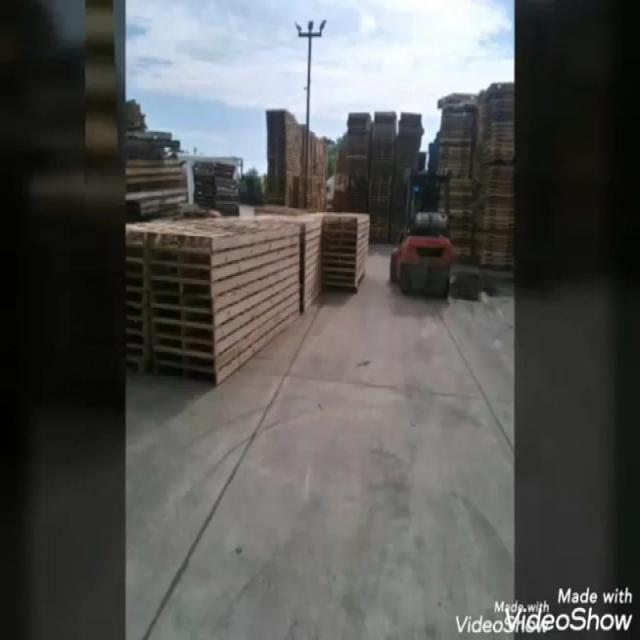Chariot elevateur: (387, 161, 455, 301)
Palette: (127, 218, 305, 389), (440, 87, 520, 274), (345, 112, 422, 244), (262, 103, 330, 211), (321, 214, 370, 291)
